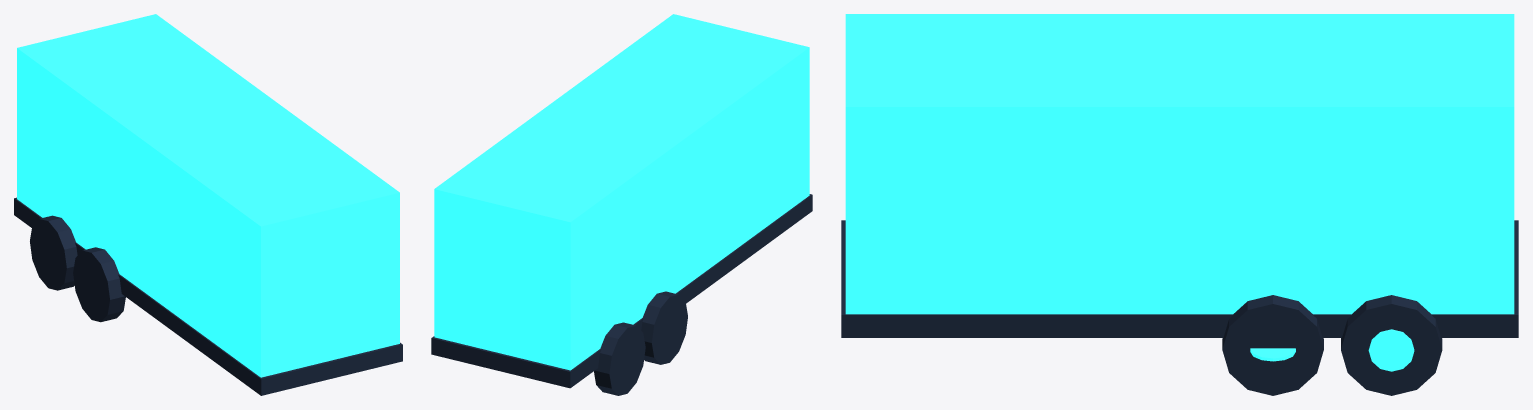
Rendered from PROP_truck-trailer-box_scene_20261005.glb.
3 views of the same model, side by side, from view 1: azimuth 30°, elevation 25°; view 2: azimuth 150°, elevation 25°; view 3: azimuth 270°, elevation 25° (orthographic). The views are drawn at different scales.
Parts seen in each view (by area): view 1: VEH_TrailerBox, VEH_TrailerChassis.001, VEH_Wheel.037, VEH_Wheel.036; view 2: VEH_TrailerBox, VEH_TrailerChassis.001, VEH_Wheel.036, VEH_Wheel.037; view 3: VEH_TrailerBox, VEH_TrailerChassis.001, VEH_Wheel.039, VEH_Wheel.038, VEH_Hub.038.
Boxes of the visible parts, x1,y1,x2,y2 form: VEH_TrailerBox: (17,14,399,377); VEH_TrailerChassis.001: (14,197,402,395); VEH_Wheel.037: (73,247,125,322); VEH_Wheel.036: (30,215,77,290); VEH_TrailerBox: (434,14,809,370); VEH_TrailerChassis.001: (431,194,812,388); VEH_Wheel.036: (594,322,645,395); VEH_Wheel.037: (641,291,687,364); VEH_TrailerBox: (845,14,1514,314); VEH_TrailerChassis.001: (841,220,1518,337); VEH_Wheel.039: (1222,295,1323,395); VEH_Wheel.038: (1341,295,1442,395); VEH_Hub.038: (1368,329,1414,371).
Size of the model in its own units: 3.38 by 3.65 by 8.
